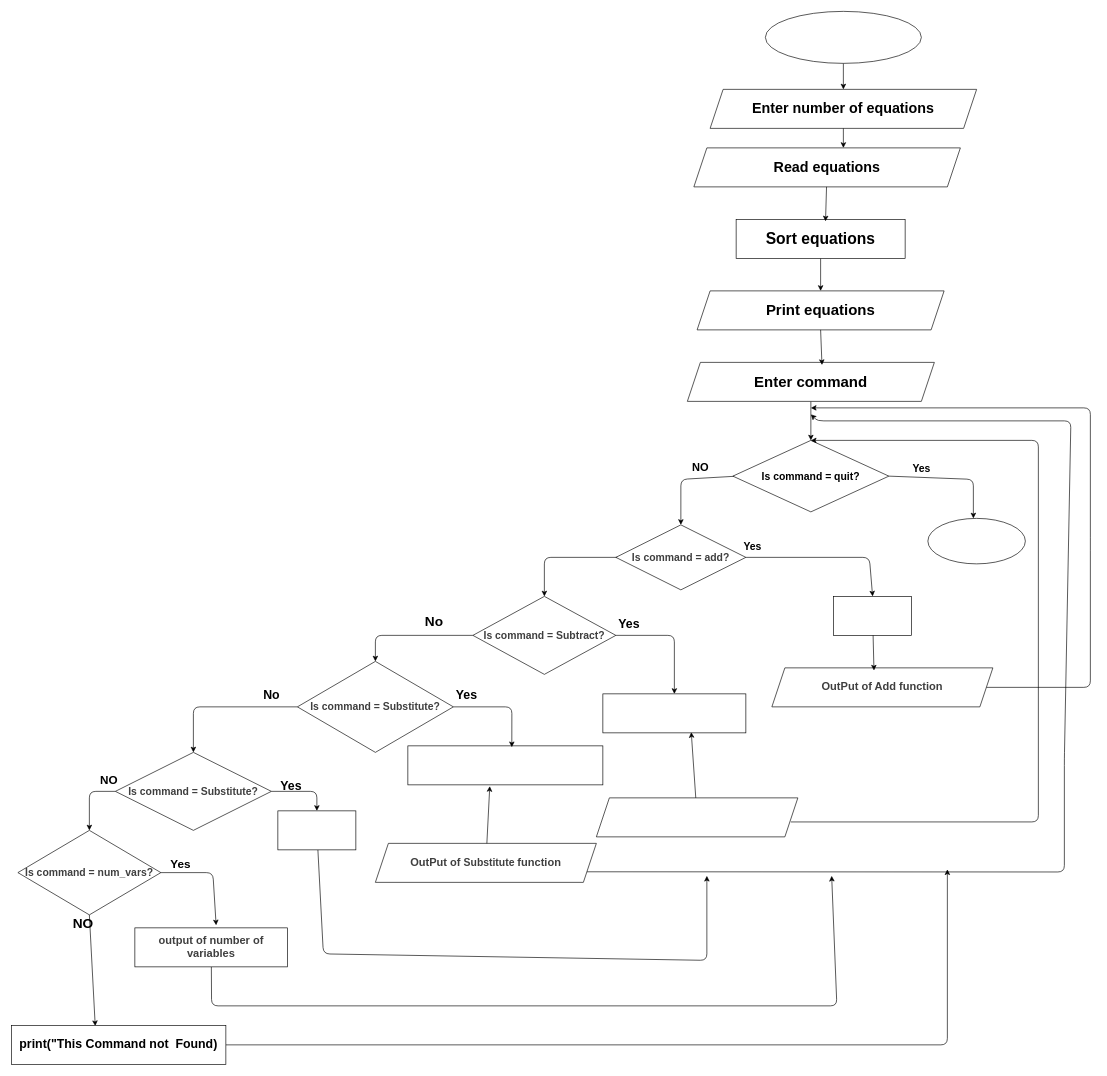
This 1107x1076 diagram has some shape labels left out. Each missing label, with the box of its shape:
End: (927, 518, 1025, 564)
output of column: (277, 810, 356, 850)
OutPut of Subtract function: (596, 797, 798, 837)
Process Add function: (833, 596, 912, 635)
Process Substitute function: (407, 745, 603, 785)
Process Subtract function: (602, 693, 746, 733)
Start: (765, 11, 921, 63)
